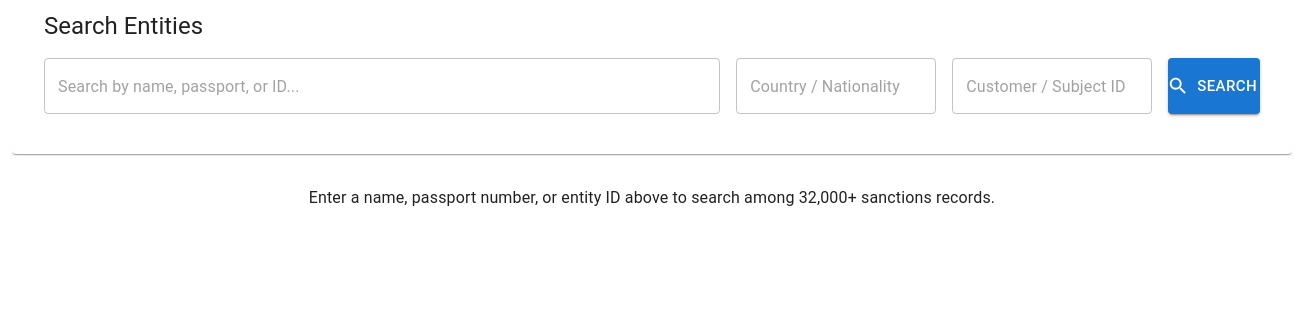
Test case: SearchTab › shows a truncated-results message when the server reports more matches than returned
Type "Test" into the field with placeholder "Search by name, passport, or ID..." at (382, 86), box 44,58 -> 720,114
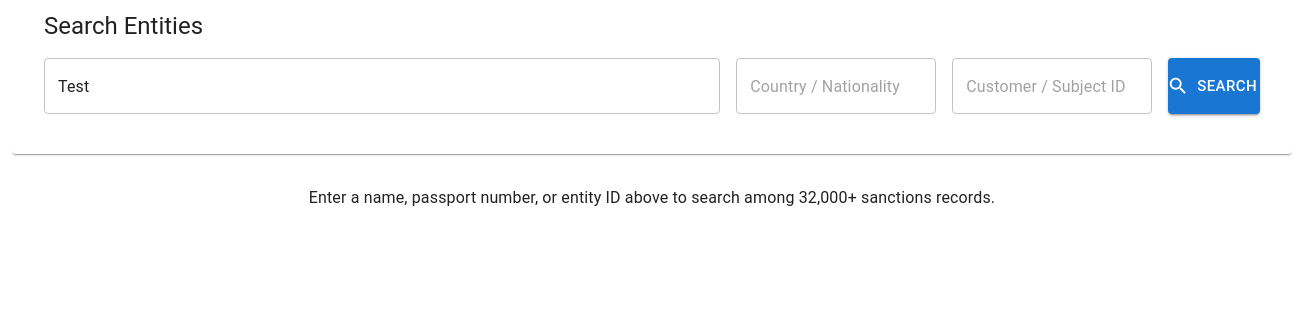
Click the button "Search" at (1214, 86), box 1168,58 -> 1260,114
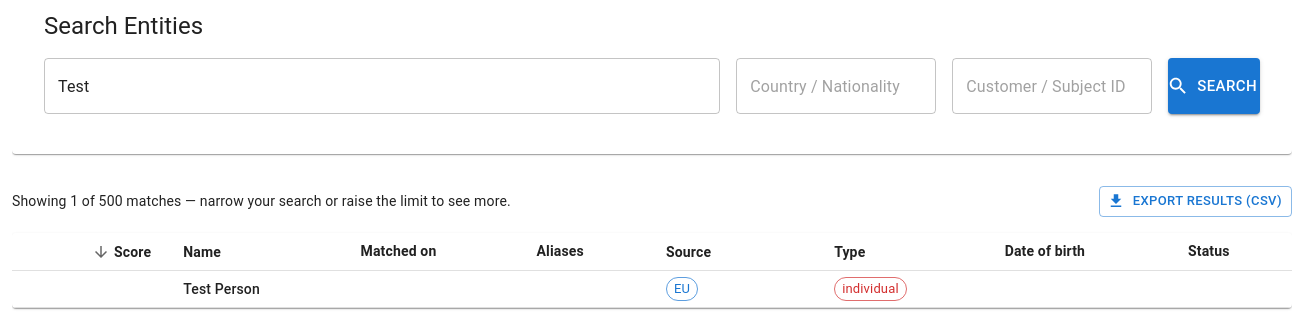
expect the text "narrow your search" is shown: met, box 12,193 -> 511,209
